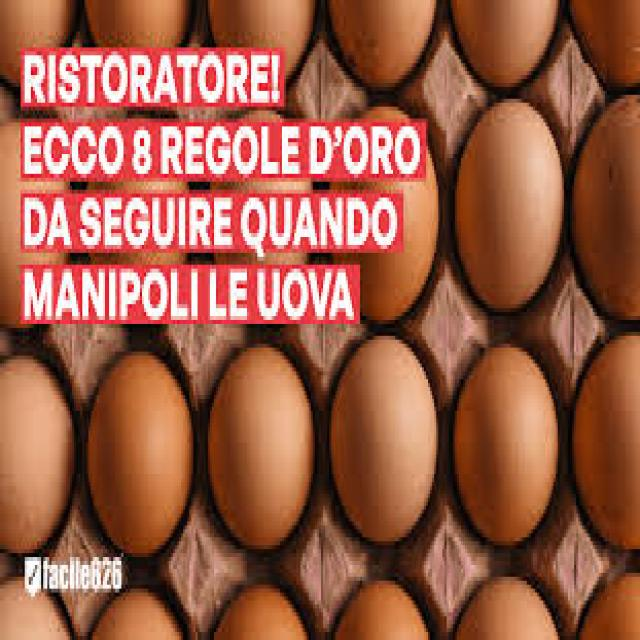Egg: (436, 11, 640, 634), (4, 353, 620, 542), (454, 96, 569, 326), (326, 326, 439, 548), (201, 340, 319, 550)
